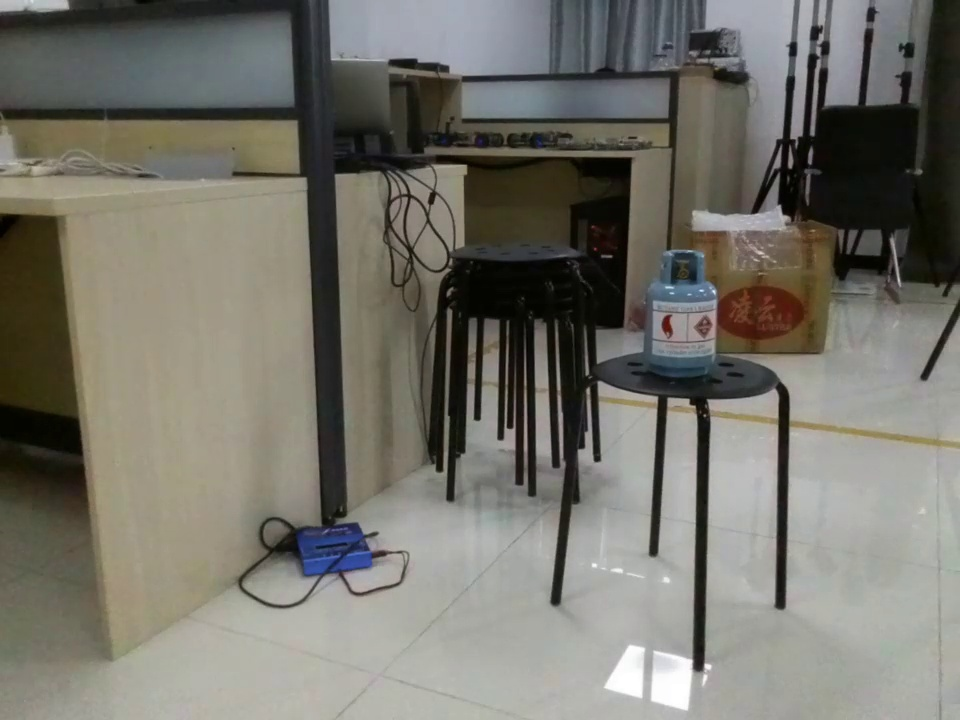gas tank: (641, 242, 731, 387)
